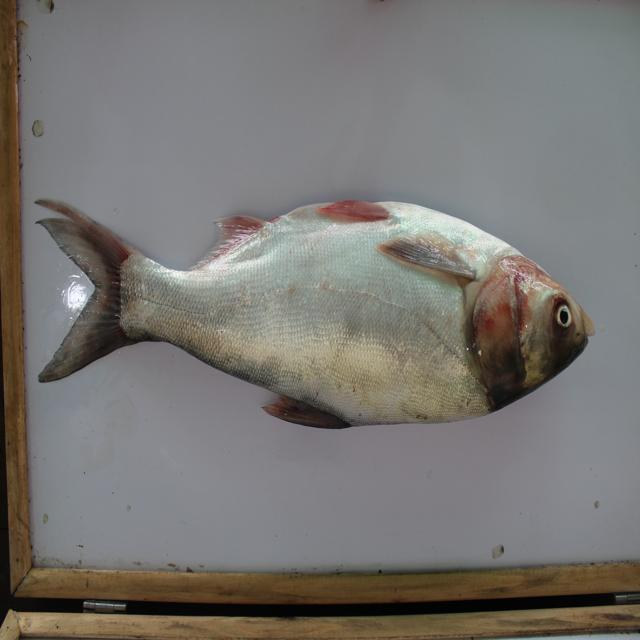SilverCarp: (30, 190, 597, 444)
